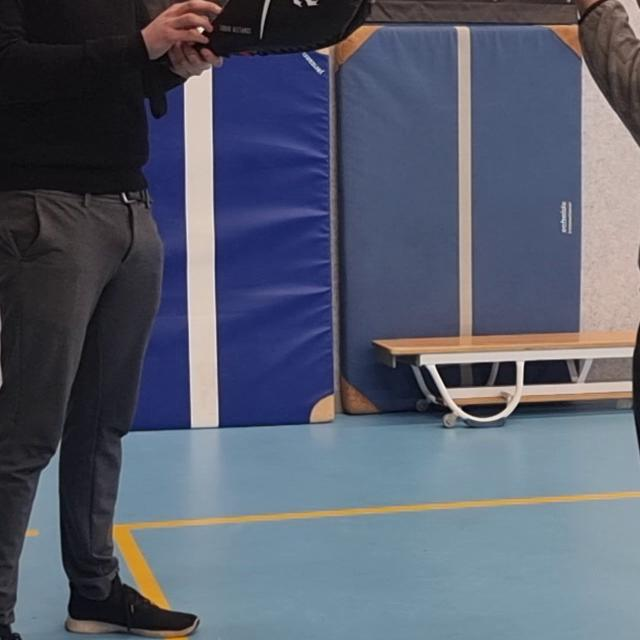paddle: (188, 0, 379, 57)
